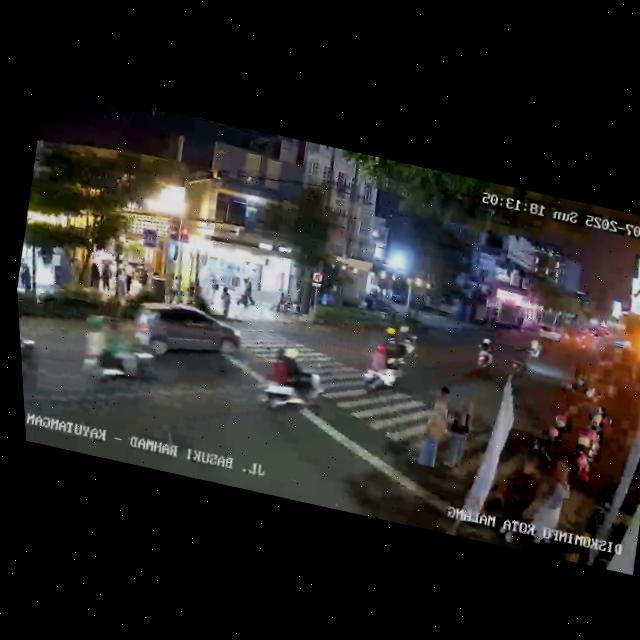car: (123, 293, 249, 375), (535, 325, 565, 346)
motorcycle: (70, 315, 167, 397), (247, 338, 333, 430), (357, 336, 411, 402), (378, 318, 428, 362), (19, 316, 45, 377), (471, 334, 501, 377), (525, 334, 546, 361)
person: (489, 452, 549, 550), (520, 454, 580, 548), (439, 394, 484, 476), (412, 398, 457, 479), (218, 284, 236, 319), (85, 259, 104, 292), (98, 260, 116, 294), (238, 279, 257, 310), (119, 262, 137, 294), (168, 273, 185, 305), (15, 258, 31, 291), (430, 386, 455, 407), (206, 274, 223, 304)
